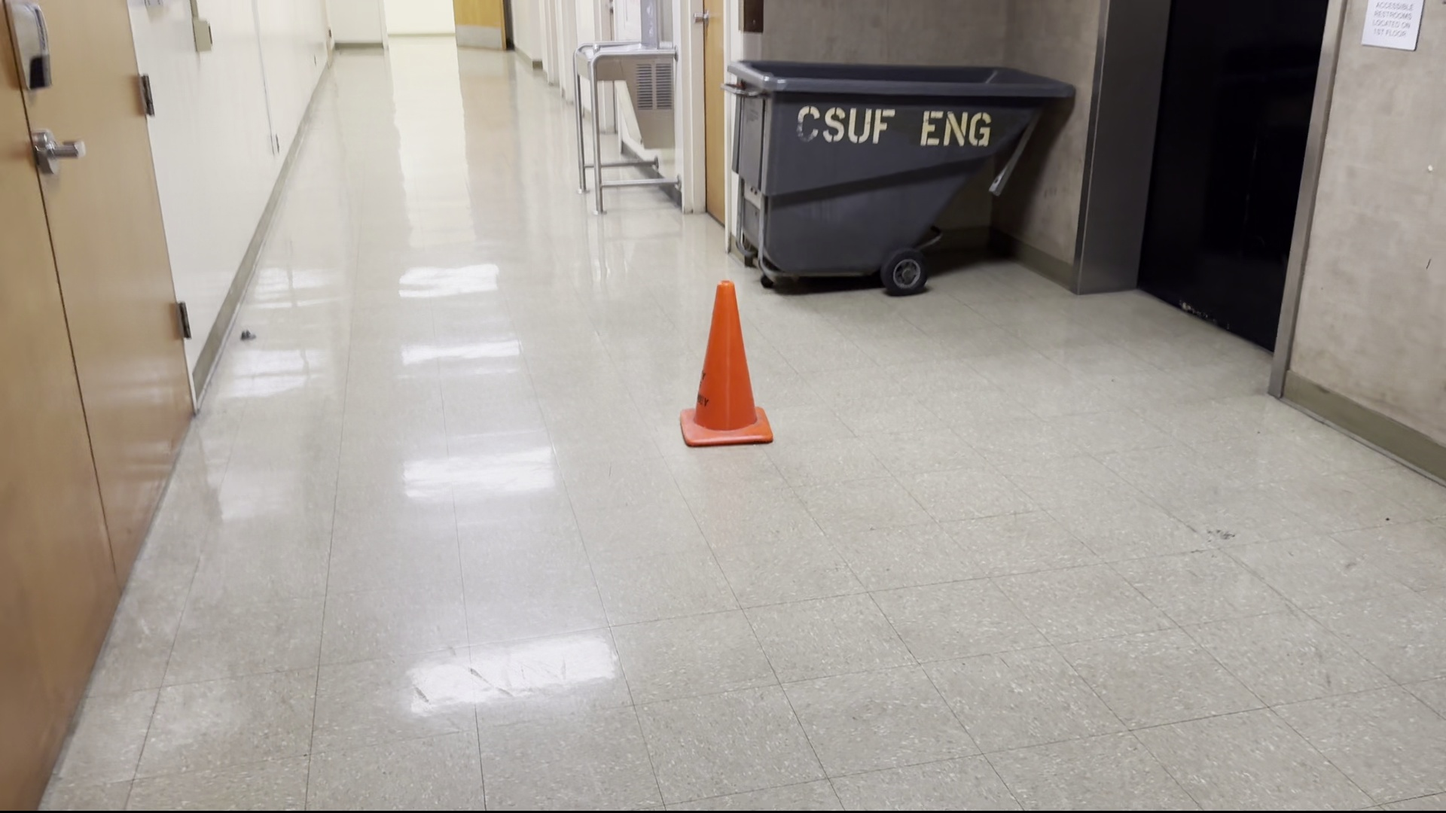traffic_cone: (679, 279, 774, 447)
